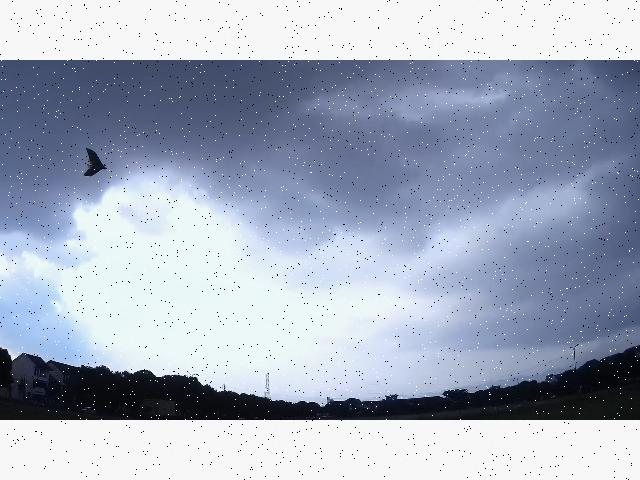Anti-Drone: (83, 148, 107, 176)
